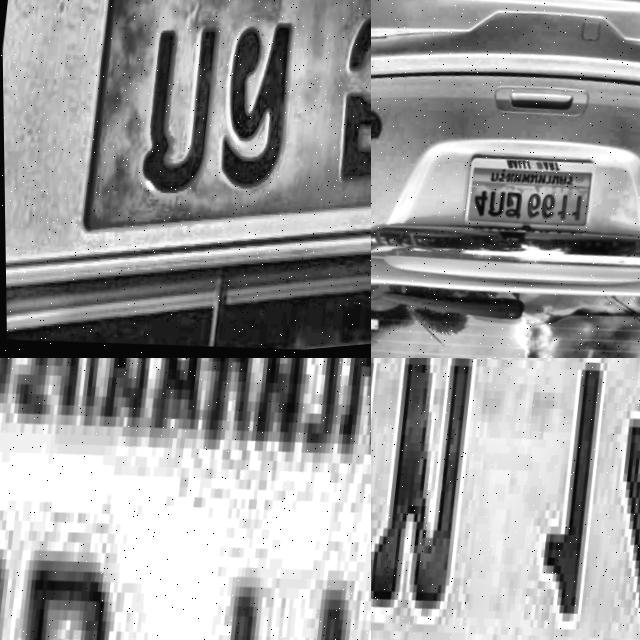license-plate: (0, 0, 371, 358), (0, 358, 371, 640), (371, 358, 640, 640), (459, 151, 595, 248)
